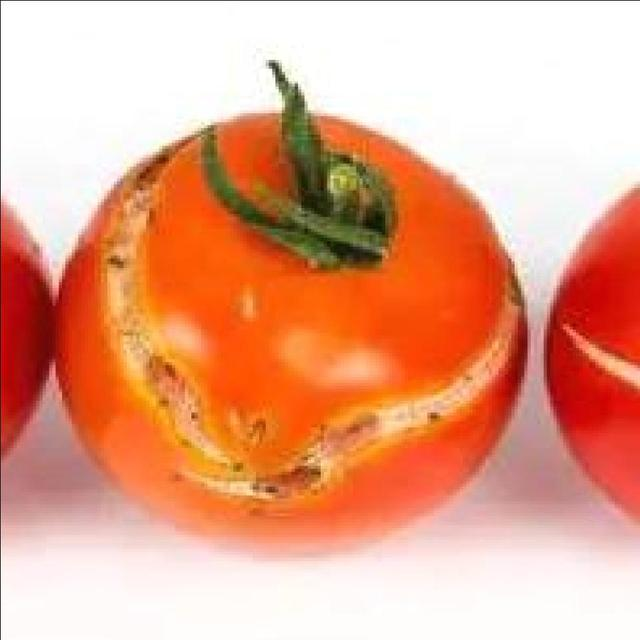Cracking Fruit: (50, 53, 402, 248)
